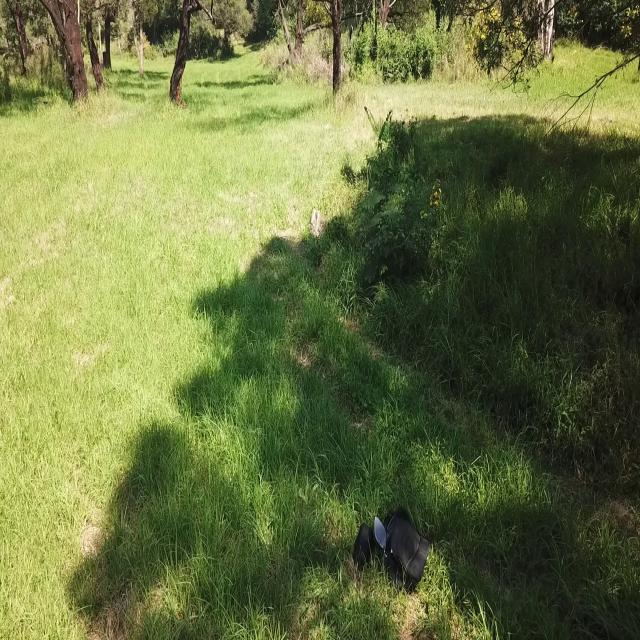Mysore-Thorn-Weed: (356, 101, 410, 286)
